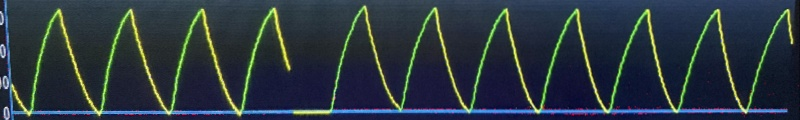normal_volume: (18, 1, 756, 117)
